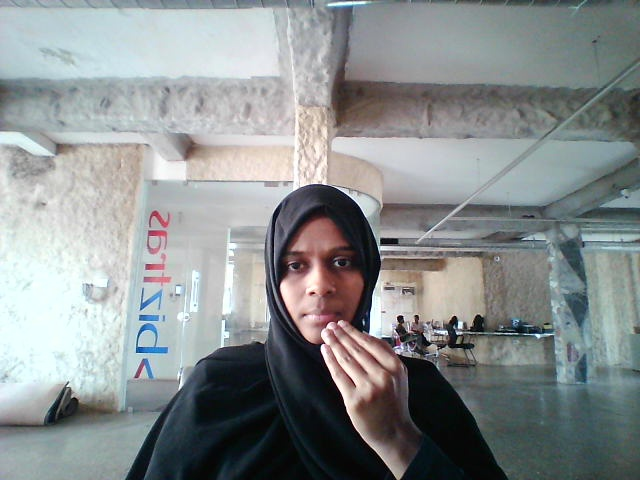THANKS: (292, 318, 437, 461)
